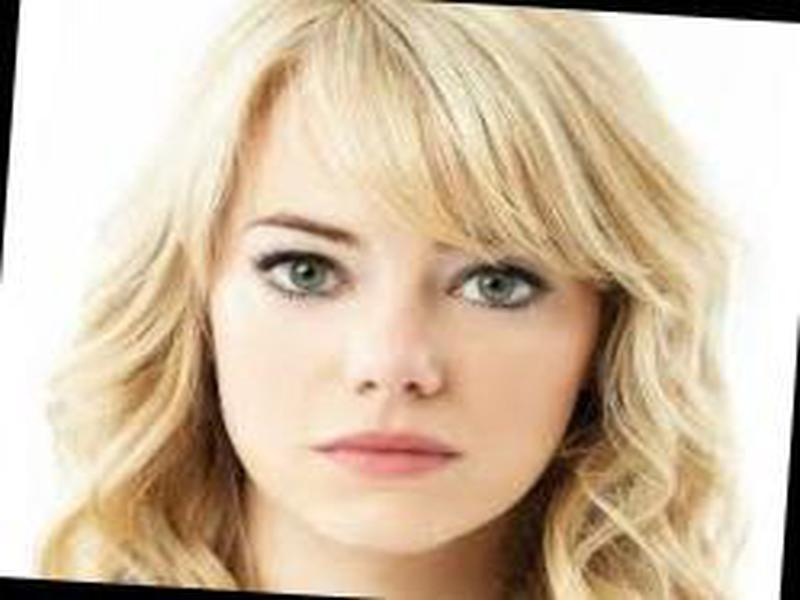without_mask: (206, 194, 598, 551)
